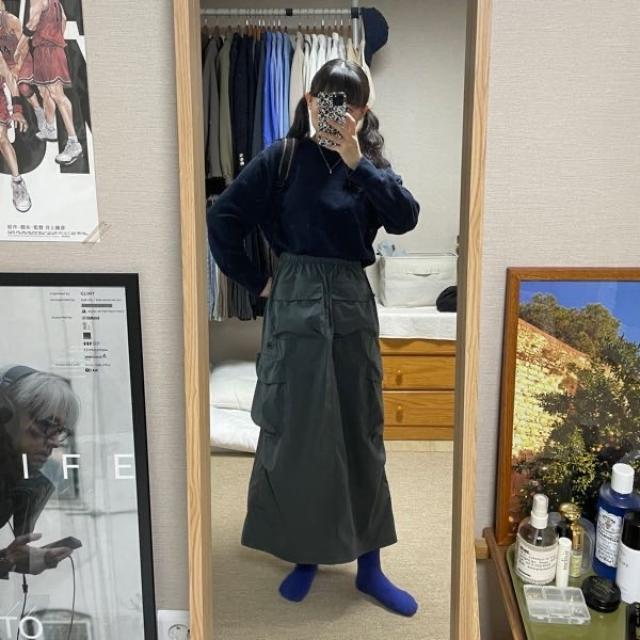mtm: (208, 133, 421, 293)
skirt: (238, 252, 396, 564)
